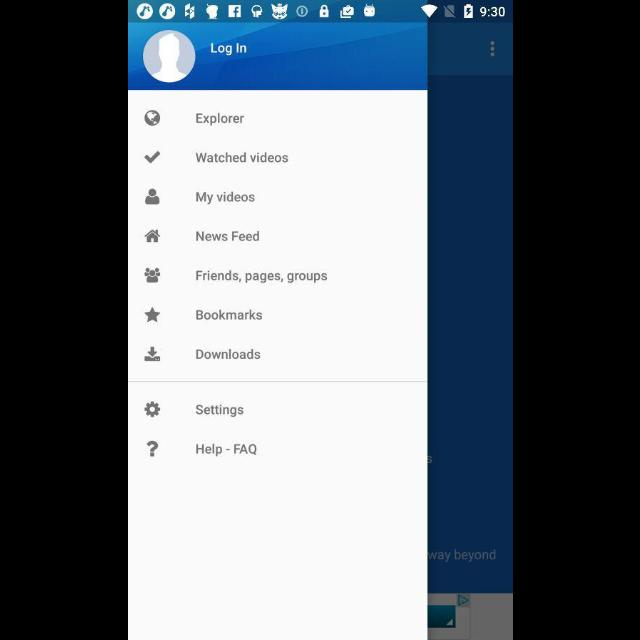icon: (142, 30, 195, 84), (144, 188, 160, 206), (144, 402, 160, 418), (144, 346, 160, 362), (144, 307, 160, 323), (144, 268, 160, 282), (144, 230, 160, 244), (146, 440, 158, 458), (144, 152, 160, 164), (489, 41, 493, 58)
image: (144, 110, 160, 126)
panel: (128, 24, 426, 640)
text: (195, 270, 327, 284), (195, 152, 288, 164), (195, 443, 257, 457), (195, 191, 255, 205), (195, 309, 262, 321), (195, 231, 259, 243), (196, 348, 260, 360), (194, 404, 243, 418), (196, 113, 244, 127), (210, 43, 247, 57)
uppertaskbar: (128, 1, 512, 23)
